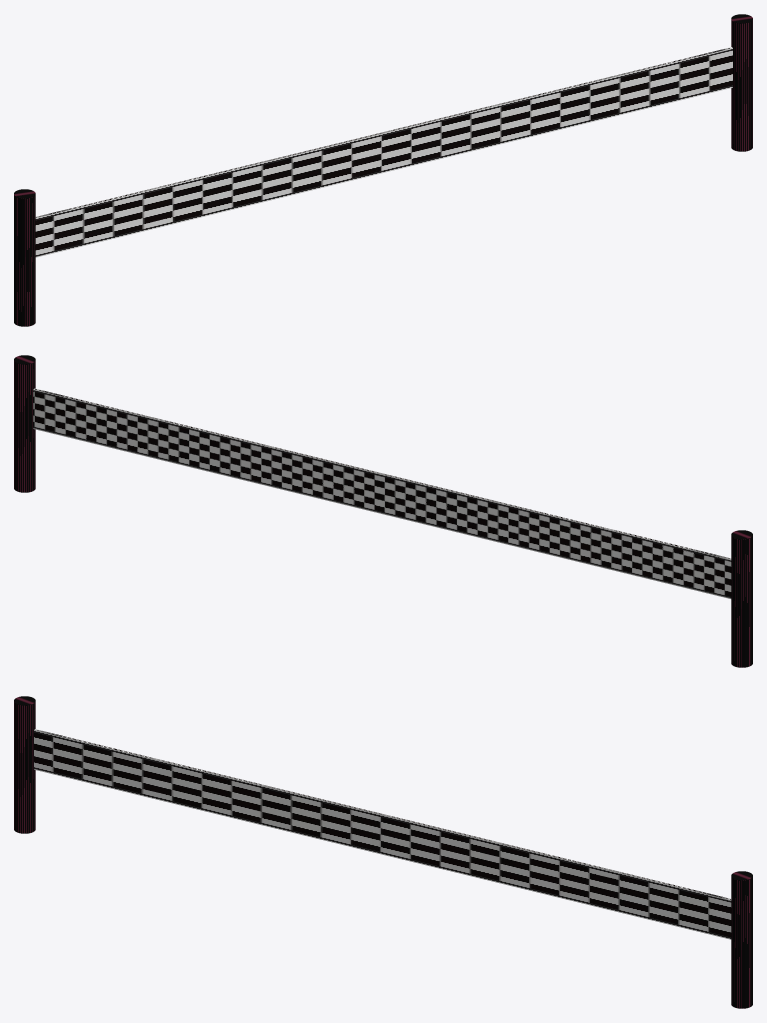
The model's file is Race_Finish.obj.
3 renders of one model, top to bottom at view 1: azimuth 30°, elevation 25°; view 2: azimuth 150°, elevation 25°; view 3: azimuth 330°, elevation 25°, orthographic.
Parts seen in each view (by area): view 1: Cube.001, Cylinder.001_Cylinder.002, Cylinder_Cylinder.001; view 2: Cube.001, Cylinder.001_Cylinder.002, Cylinder_Cylinder.001; view 3: Cube.001, Cylinder_Cylinder.001, Cylinder.001_Cylinder.002.
Boxes of the visible parts, left/top/right/bottom form: Cube.001: left=35, top=47, right=732, bottom=257; Cylinder.001_Cylinder.002: left=14, top=189, right=35, bottom=326; Cylinder_Cylinder.001: left=731, top=14, right=752, bottom=151; Cube.001: left=33, top=388, right=731, bottom=598; Cylinder.001_Cylinder.002: left=731, top=530, right=752, bottom=667; Cylinder_Cylinder.001: left=14, top=355, right=35, bottom=492; Cube.001: left=34, top=729, right=731, bottom=939; Cylinder_Cylinder.001: left=731, top=871, right=752, bottom=1008; Cylinder.001_Cylinder.002: left=14, top=696, right=35, bottom=833.
Bounding box in the file's own units: 38.93 × 6.49 × 1.
Materials: 4 (4 with a texture image).
